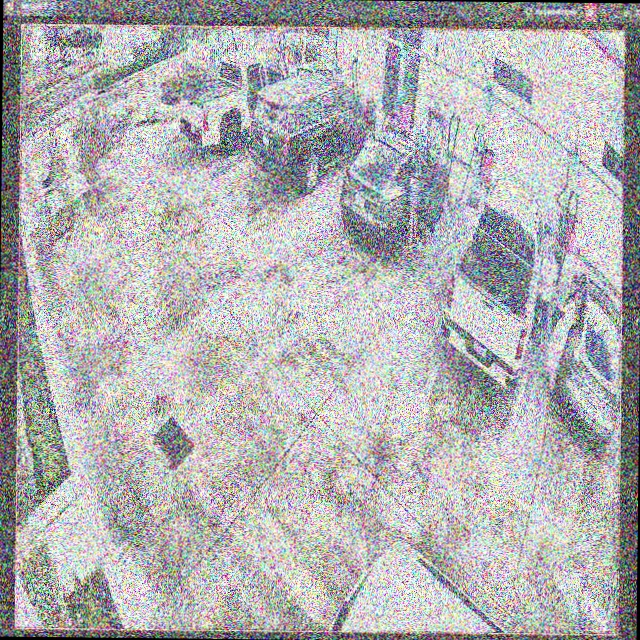Car: (441, 175, 540, 390), (247, 76, 376, 193), (342, 129, 447, 250)
